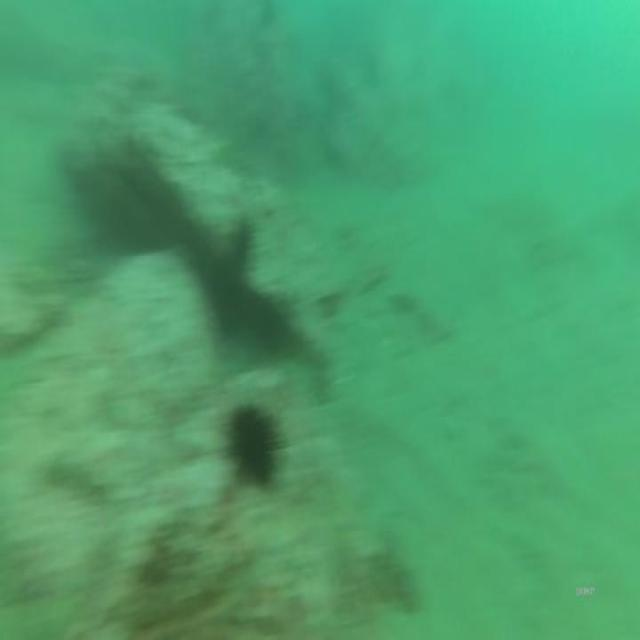echinus: (228, 403, 276, 499)
